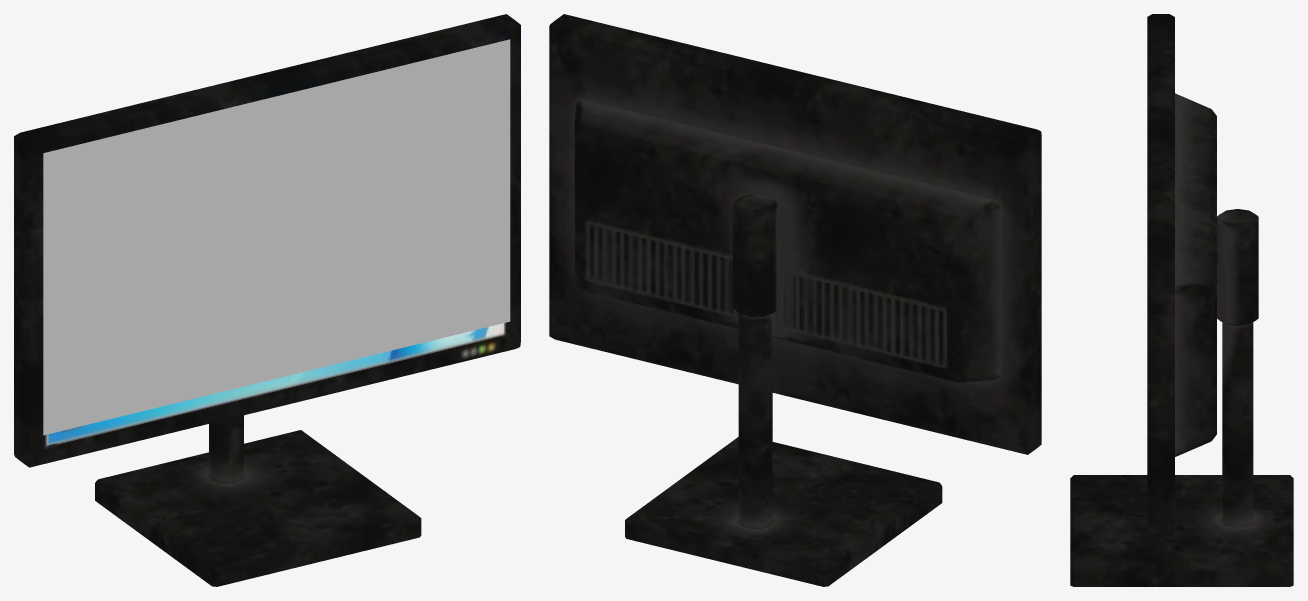
Rendered from screen.gltf.
3 renders of one model, left to right at view 1: azimuth 30°, elevation 25°; view 2: azimuth 150°, elevation 25°; view 3: azimuth 270°, elevation 25°, orthographic. The views are drawn at different scales.
Visible parts, largest first — view 1: Screen, defaultMaterial.004, defaultMaterial.002, defaultMaterial.003; view 2: defaultMaterial.004, defaultMaterial.002, defaultMaterial.003; view 3: defaultMaterial.004, defaultMaterial.002, defaultMaterial.003.
Part boxes in pixels (x1,y1,x2,y2): Screen: [43, 39, 510, 435]; defaultMaterial.004: [14, 14, 520, 467]; defaultMaterial.002: [95, 430, 421, 586]; defaultMaterial.003: [209, 415, 243, 482]; defaultMaterial.004: [549, 14, 1041, 454]; defaultMaterial.002: [625, 437, 942, 586]; defaultMaterial.003: [732, 194, 778, 528]; defaultMaterial.004: [1147, 14, 1216, 536]; defaultMaterial.002: [1070, 475, 1293, 586]; defaultMaterial.003: [1217, 209, 1258, 526].
Size of the model in its own units: 0.46 by 0.3982 by 0.1937.
2 materials, 1 textured.
